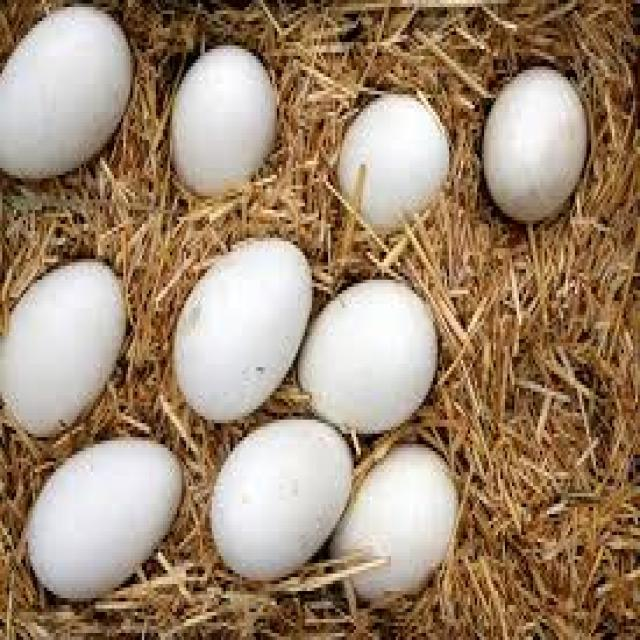White Egg: (166, 235, 314, 413), (22, 430, 186, 589), (4, 6, 135, 195), (216, 414, 357, 582), (301, 269, 441, 430), (339, 438, 462, 604), (11, 259, 123, 432), (166, 46, 286, 203), (486, 51, 589, 223), (346, 87, 454, 243)
